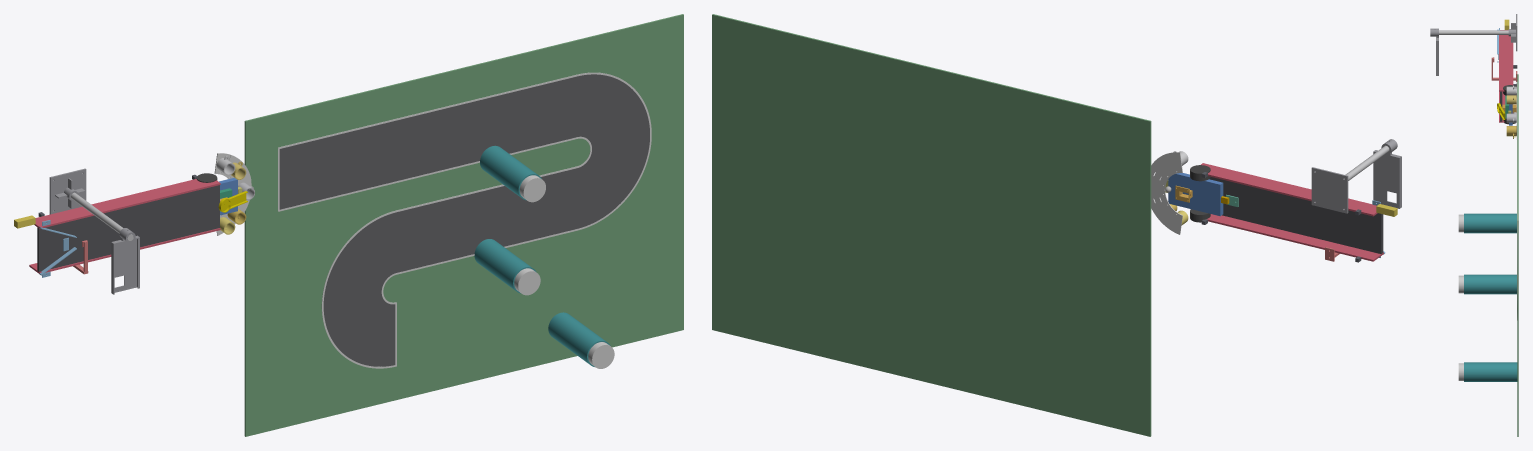
The model's file is escena.glb.
3 renders of one model, left to right at view 1: azimuth 30°, elevation 25°; view 2: azimuth 150°, elevation 25°; view 3: azimuth 270°, elevation 25°, orthographic. The views are drawn at different scales.
Parts seen in each view (by area): view 1: pista, banda, termo_3, termo_2, termo_1, soporte_celular, base_poste; view 2: pista, banda, carro, soporte_celular, base_poste, placa_portavasos_C, placa_portavasos_A; view 3: termo_1, termo_2, termo_3, banda, pista, poste, carro, base_poste, soporte_celular, sensor_ir, vaso_0, vaso_1 (+1 smaller).
Part boxes in pixels (<box>): pista: <box>244,14,683,436</box>; banda: <box>14,174,220,273</box>; termo_3: <box>548,312,614,368</box>; termo_2: <box>474,239,540,295</box>; termo_1: <box>480,145,545,202</box>; soporte_celular: <box>111,228,139,294</box>; base_poste: <box>49,168,86,214</box>; pista: <box>712,14,1151,436</box>; banda: <box>1201,163,1397,262</box>; carro: <box>1165,165,1238,222</box>; soporte_celular: <box>1373,139,1401,208</box>; base_poste: <box>1311,167,1348,213</box>; placa_portavasos_C: <box>1151,198,1182,234</box>; placa_portavasos_A: <box>1151,152,1182,181</box>; termo_1: <box>1458,213,1516,233</box>; termo_2: <box>1458,274,1516,294</box>; termo_3: <box>1458,362,1517,381</box>; banda: <box>1499,19,1517,122</box>; pista: <box>1517,74,1518,436</box>; poste: <box>1439,30,1508,34</box>; carro: <box>1503,85,1516,125</box>; base_poste: <box>1508,14,1517,51</box>; soporte_celular: <box>1430,28,1438,75</box>; sensor_ir: <box>1491,57,1517,81</box>; vaso_0: <box>1506,85,1516,95</box>; vaso_1: <box>1506,95,1516,104</box>.
Bounding box in the file's own units: 2466 × 1100 × 406.
